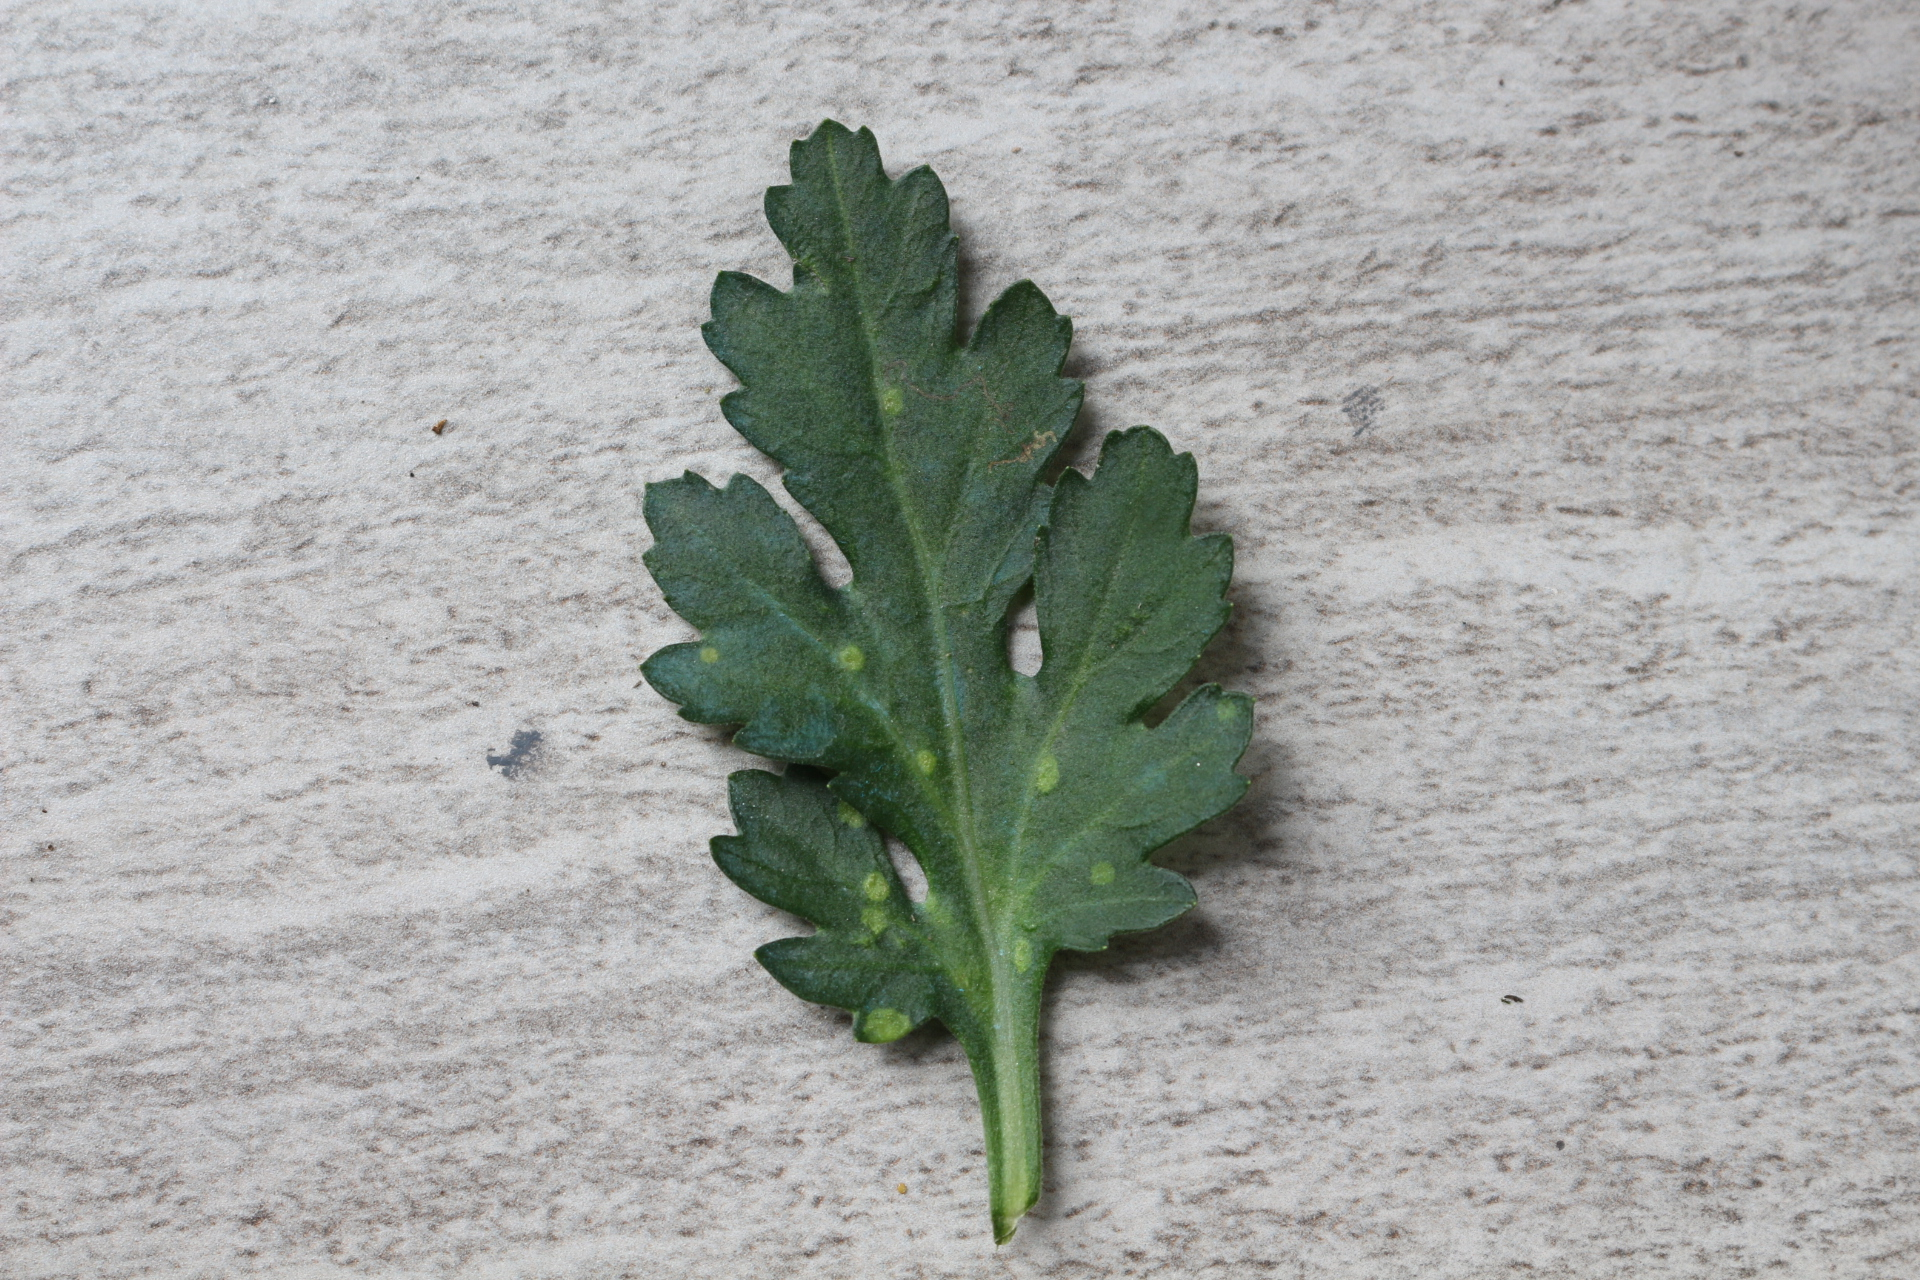namsung: (864, 1001, 910, 1041), (831, 639, 869, 679), (1083, 856, 1121, 889), (911, 751, 949, 781), (1009, 934, 1034, 977), (1034, 757, 1063, 794), (859, 869, 891, 899), (861, 907, 894, 937), (837, 803, 874, 827), (881, 389, 906, 420), (1216, 694, 1239, 724), (699, 644, 724, 666)
